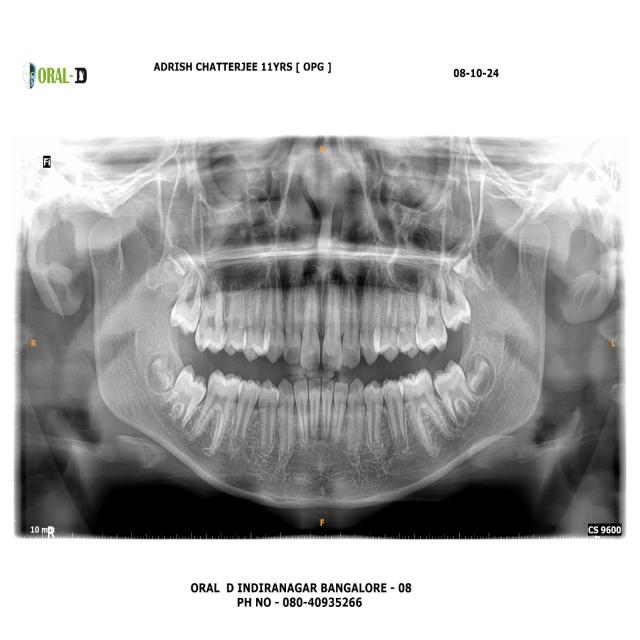Premolars: (384, 375, 411, 461), (363, 376, 384, 452)
